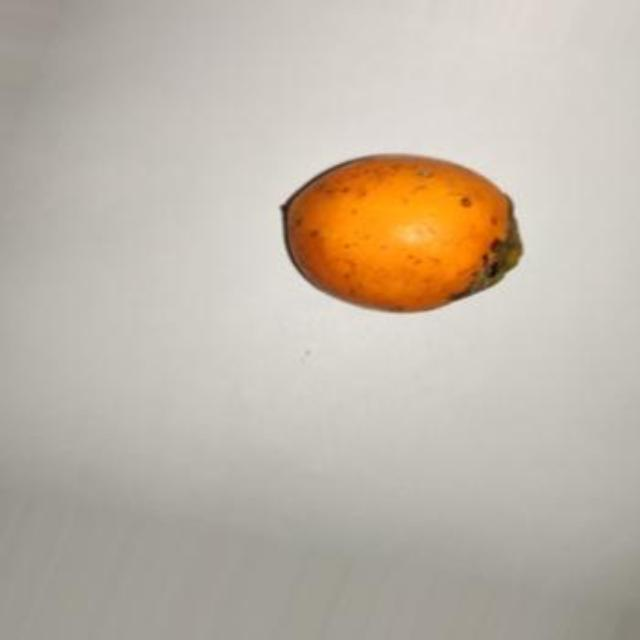good: (280, 155, 525, 316)
